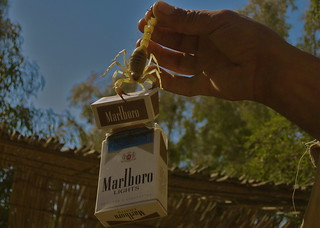cigarette: (88, 89, 174, 227)
